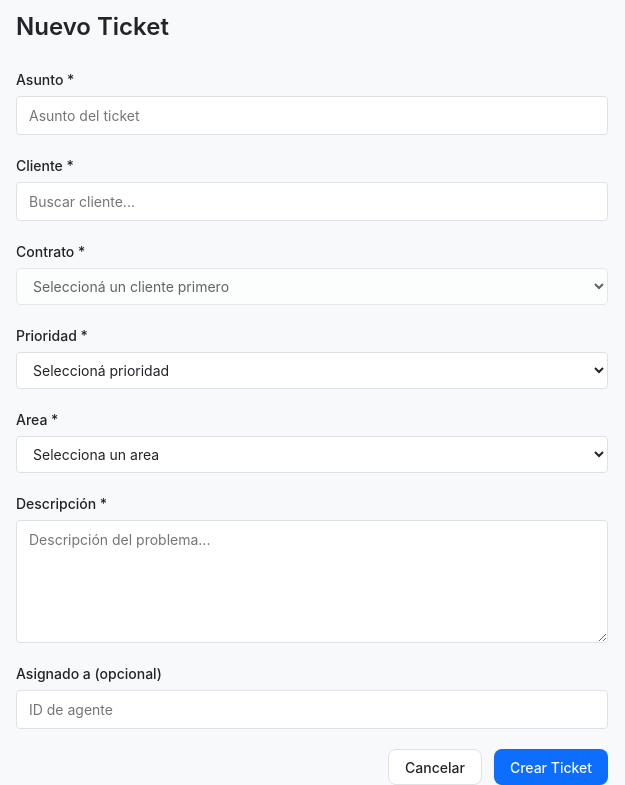
Test: CreateTicketPage › shows validation errors when submitting empty form (contract included)
Step 1. Click the button "Crear Ticket" → (551, 767), box [494, 749, 608, 784]
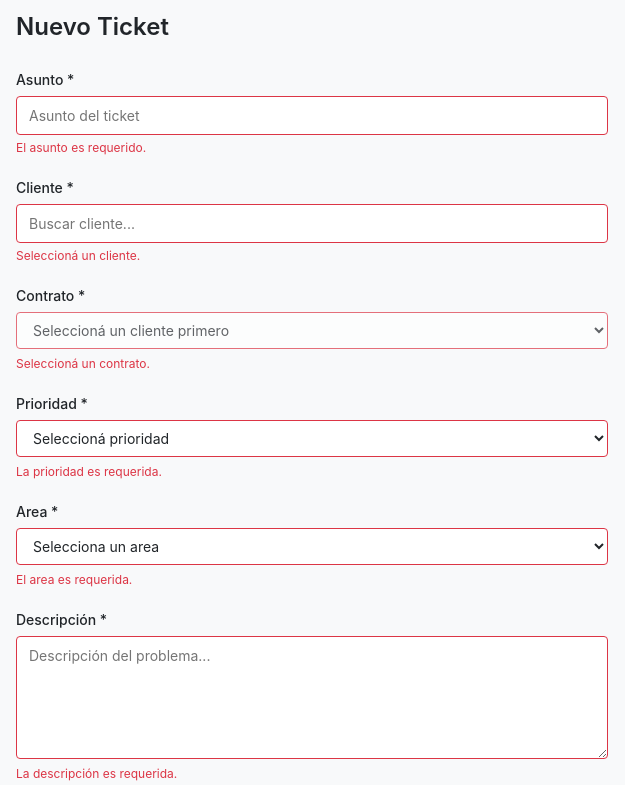
Check: the text "El asunto es requerido." is shown, box [16, 140, 146, 155]
Check: the text "Seleccioná un cliente." is shown, box [16, 248, 140, 263]
Check: the text "Seleccioná un contrato." is shown, box [16, 356, 150, 371]
